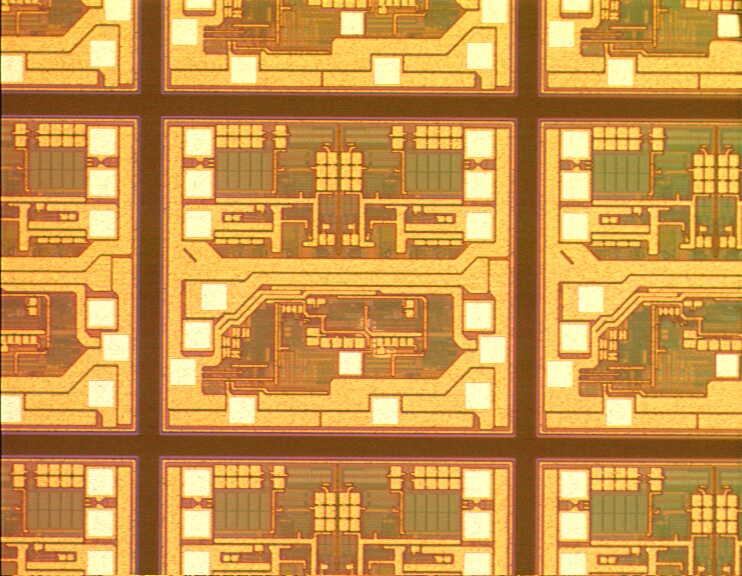BLOCK ETCH: (353, 315, 397, 365)
